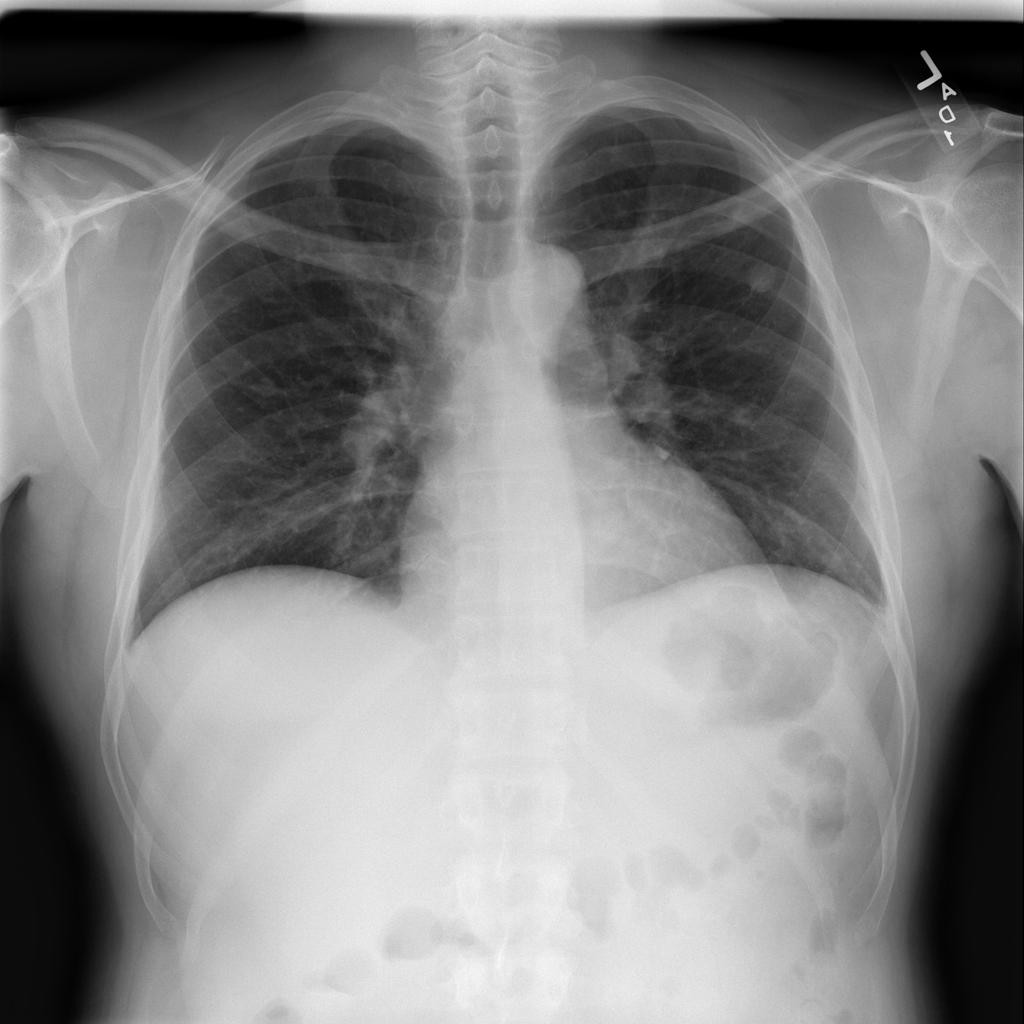nodule: (738, 251, 790, 302)
